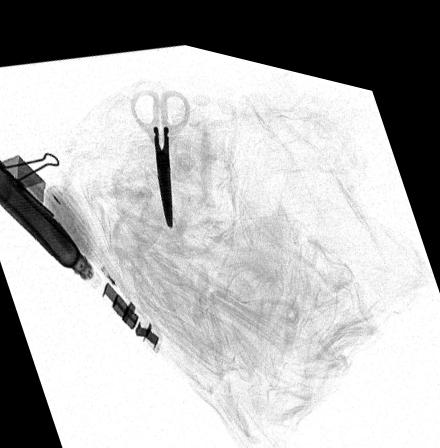Scissors: (126, 78, 193, 222)
